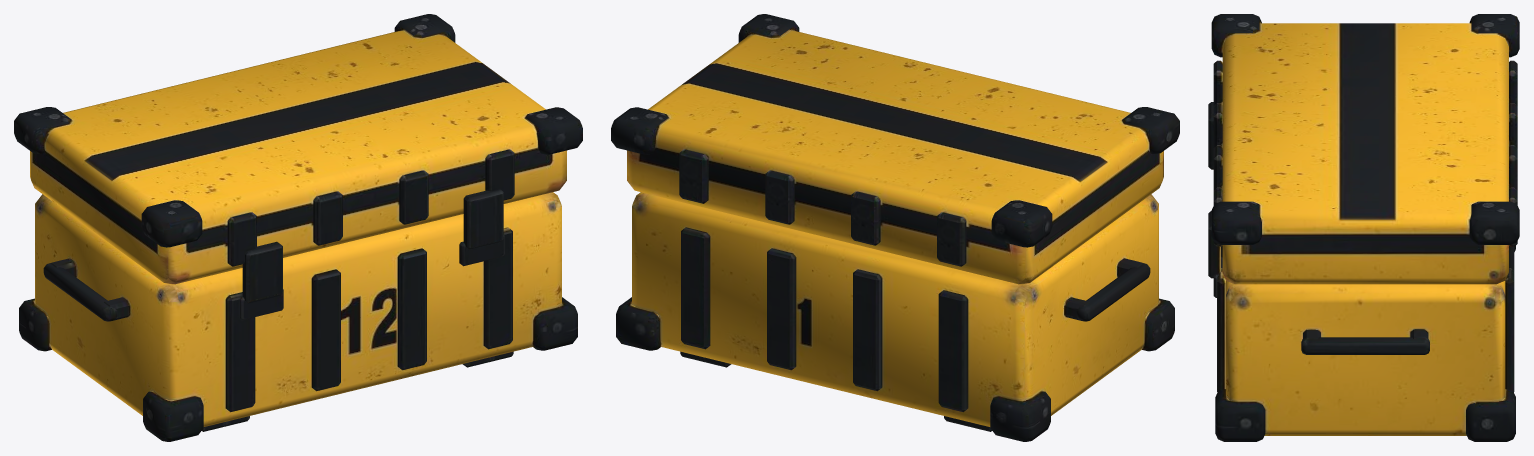
Rendered from case.glb.
3 views of the same model, side by side, from view 1: azimuth 30°, elevation 25°; view 2: azimuth 150°, elevation 25°; view 3: azimuth 270°, elevation 25° (orthographic).
Size of the model in its own units: 2 by 0.9993 by 1.19.
1 material, 1 textured.
